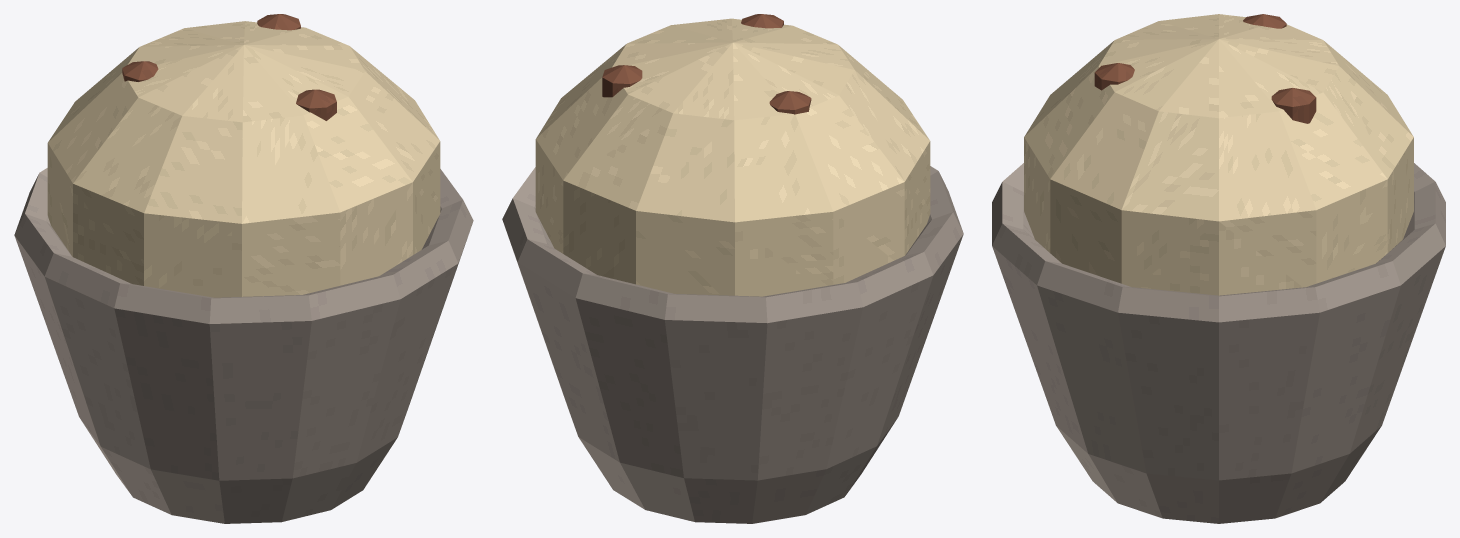
File: icecream_candy.glb
3 views of the same model, side by side, from view 1: azimuth 30°, elevation 25°; view 2: azimuth 150°, elevation 25°; view 3: azimuth 270°, elevation 25° (orthographic).
Parts seen in each view (by area): view 1: block_frozen scoop, block_dessert dish, block_flavor and topping flecks (×3); view 2: block_frozen scoop, block_dessert dish, block_flavor and topping flecks (×2); view 3: block_dessert dish, block_frozen scoop, block_flavor and topping flecks (×2).
Part boxes in pixels (box(x1,y1,x2,y2)): block_frozen scoop: box(47, 21, 440, 297); block_dessert dish: box(14, 168, 473, 523); block_flavor and topping flecks (×3): box(122, 14, 336, 120); block_frozen scoop: box(535, 18, 930, 296); block_dessert dish: box(502, 166, 963, 523); block_flavor and topping flecks (×2): box(602, 65, 811, 114); block_dessert dish: box(992, 163, 1445, 523); block_frozen scoop: box(1024, 14, 1413, 295); block_flavor and topping flecks (×2): box(1094, 63, 1316, 123).
Bounding box in the file's own units: 0.118 × 0.1203 × 0.1151.
1 material, 1 textured.
